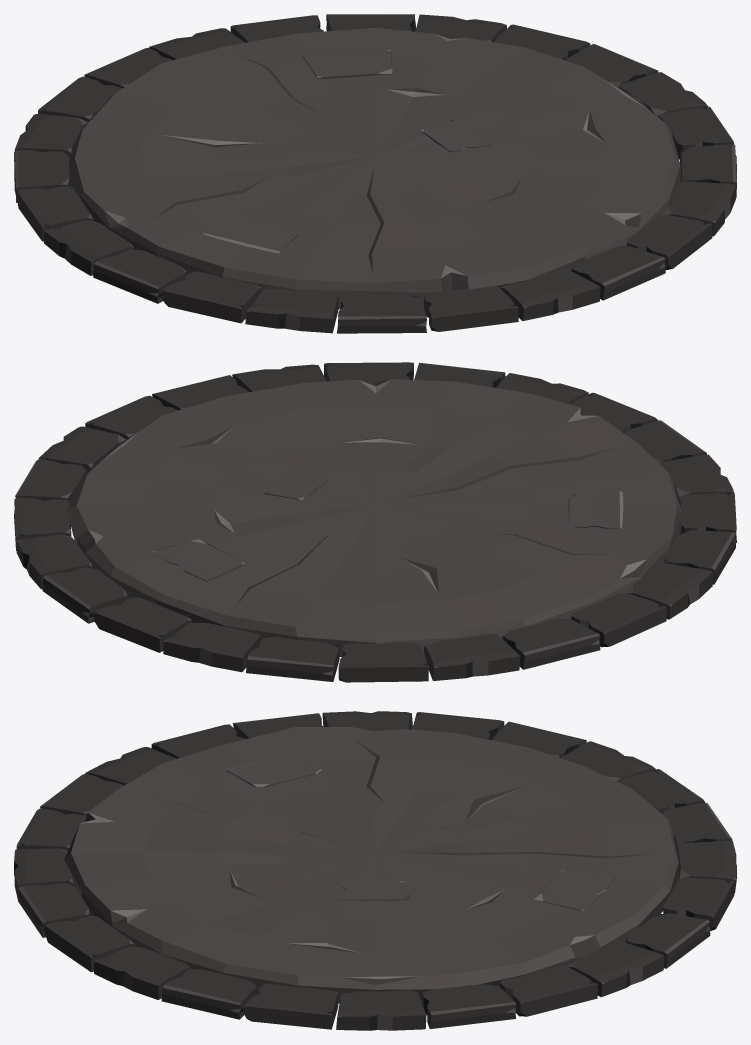
Rendered from Stone_Pedestal_01.glb.
3 renders of one model, top to bottom at view 1: azimuth 30°, elevation 25°; view 2: azimuth 150°, elevation 25°; view 3: azimuth 270°, elevation 25°, orthographic.
Parts seen in each view (by area): view 1: Stone_Pedestal_01; view 2: Stone_Pedestal_01; view 3: Stone_Pedestal_01.
Boxes of the visible parts, x1,y1,x2,y2 form: Stone_Pedestal_01: (14, 14, 736, 333); Stone_Pedestal_01: (14, 362, 736, 682); Stone_Pedestal_01: (14, 711, 736, 1030).
Size of what is drawn, in the model's own units: 8 by 0.3525 by 8.
1 material, 1 textured.
